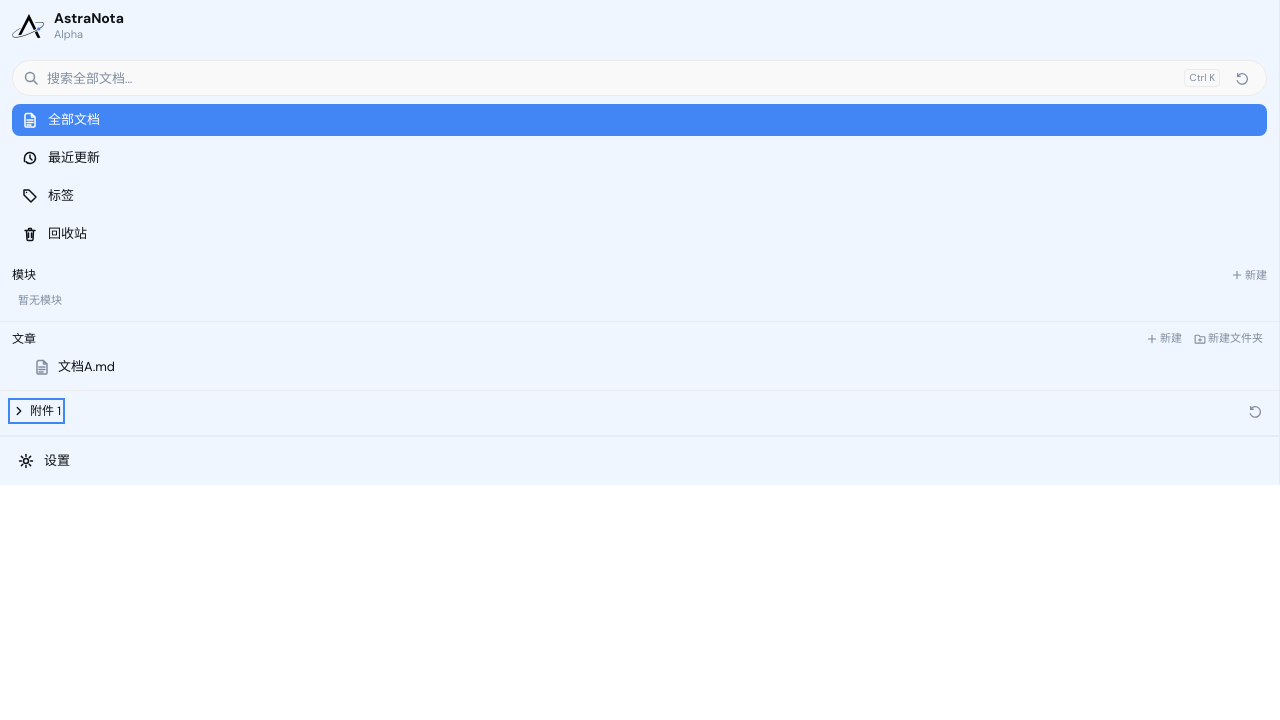
it: L-1 默认收起语义 › 键盘可达性：折叠开关是原生 button 且可聚焦（Enter/Space 由浏览器原生激活）
What coordinates should you click on to do the following:
click the button "附件 1"
I would click on:
 (36, 410)
Its box is [12,402,61,420].
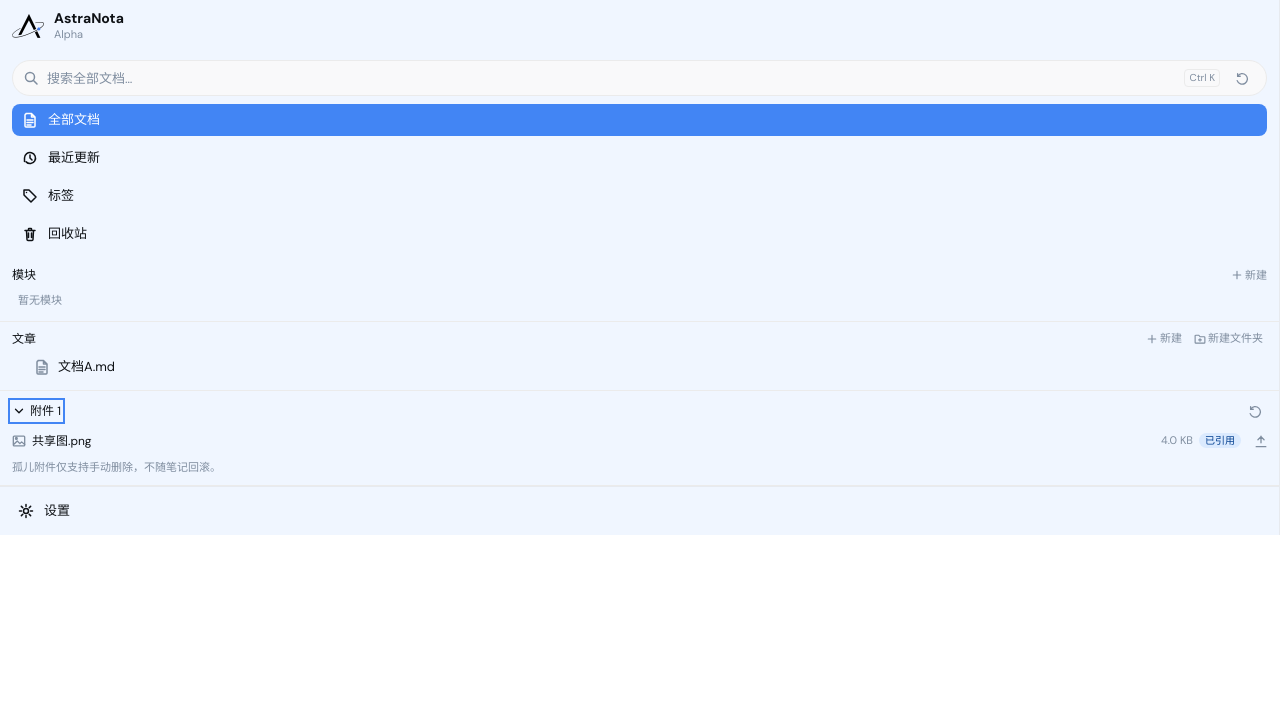
expect the button "附件 1" is expanded: met, box [12,402,61,420]
